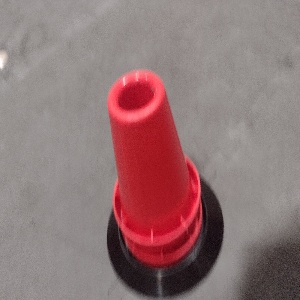Red_2: (100, 66, 204, 267)
